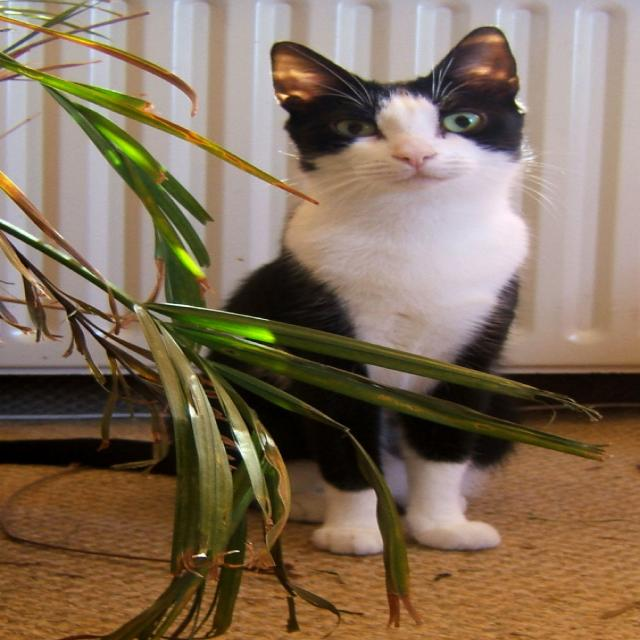cat: (207, 26, 559, 556)
